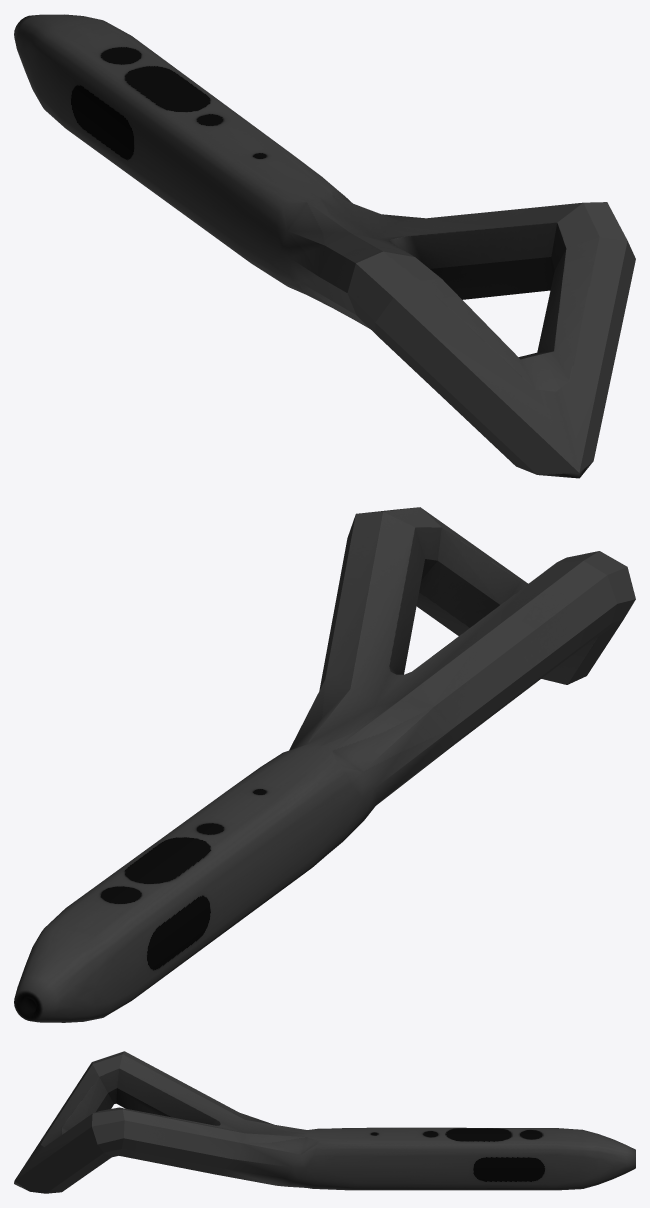
Rendered from Stylus_Body.obj.
3 views of the same model, one above another, from view 1: azimuth 30°, elevation 25°; view 2: azimuth 150°, elevation 25°; view 3: azimuth 270°, elevation 25° (orthographic). The views are drawn at different scales.
Parts seen in each view (by area): view 1: Stylus_Body_Body; view 2: Stylus_Body_Body; view 3: Stylus_Body_Body.
Part boxes in pixels (x1,y1,x2,y2): Stylus_Body_Body: [14, 14, 635, 478]; Stylus_Body_Body: [14, 507, 635, 1022]; Stylus_Body_Body: [14, 1051, 635, 1193].
Size of the model in its own units: 0.0638 by 0.0409 by 0.2257.
1 material, 1 textured.
